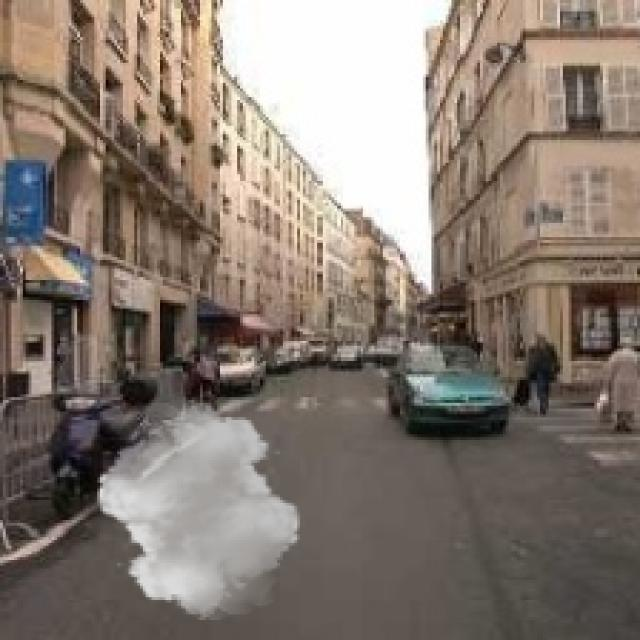smoke: (89, 397, 308, 620)
